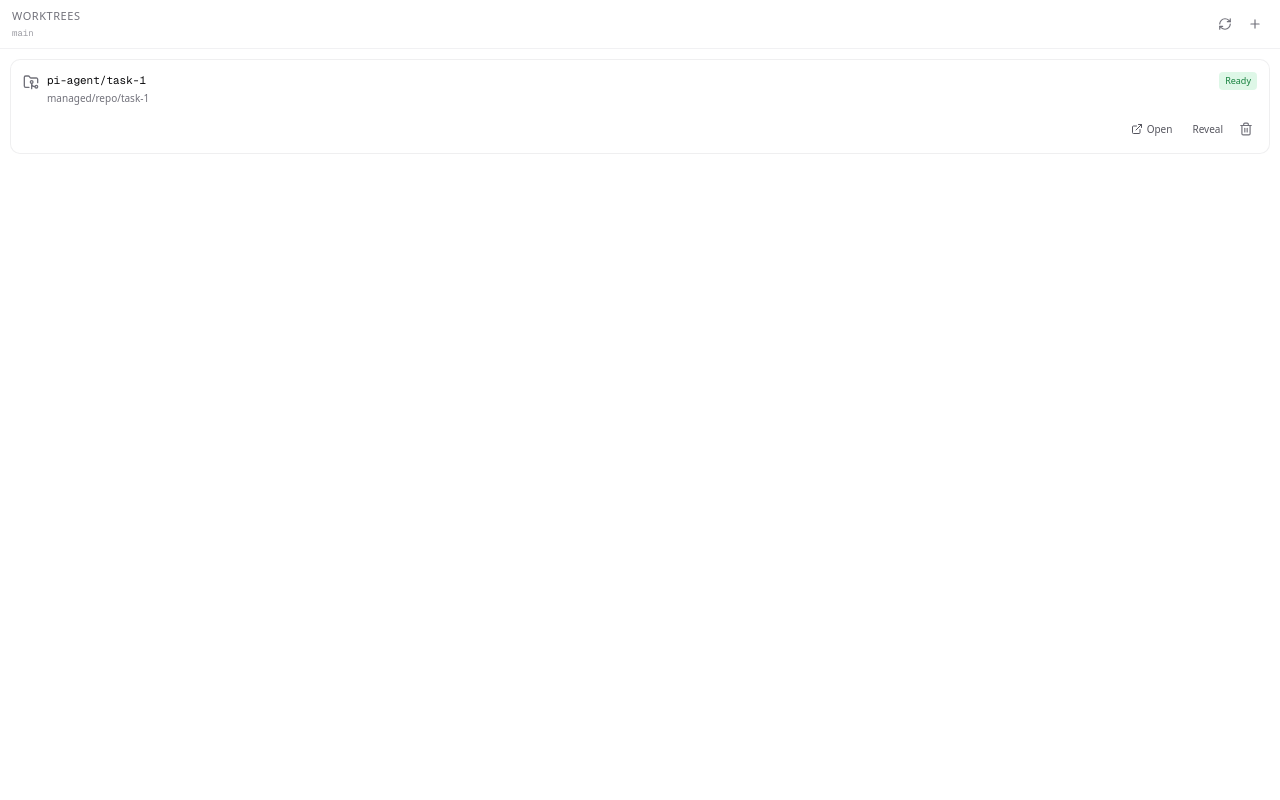
Test: WorktreesPanel › does not offer forced removal while the worktree is active
This screenshot has width=1280, height=800.
Expected: the text "pi-agent/task-1" is shown, [47, 73, 146, 87]
What coordinates should you click on to do the following:
click the button named "Safe remove"
I would click on:
 (1246, 129)
Its box is [1235, 118, 1257, 140].
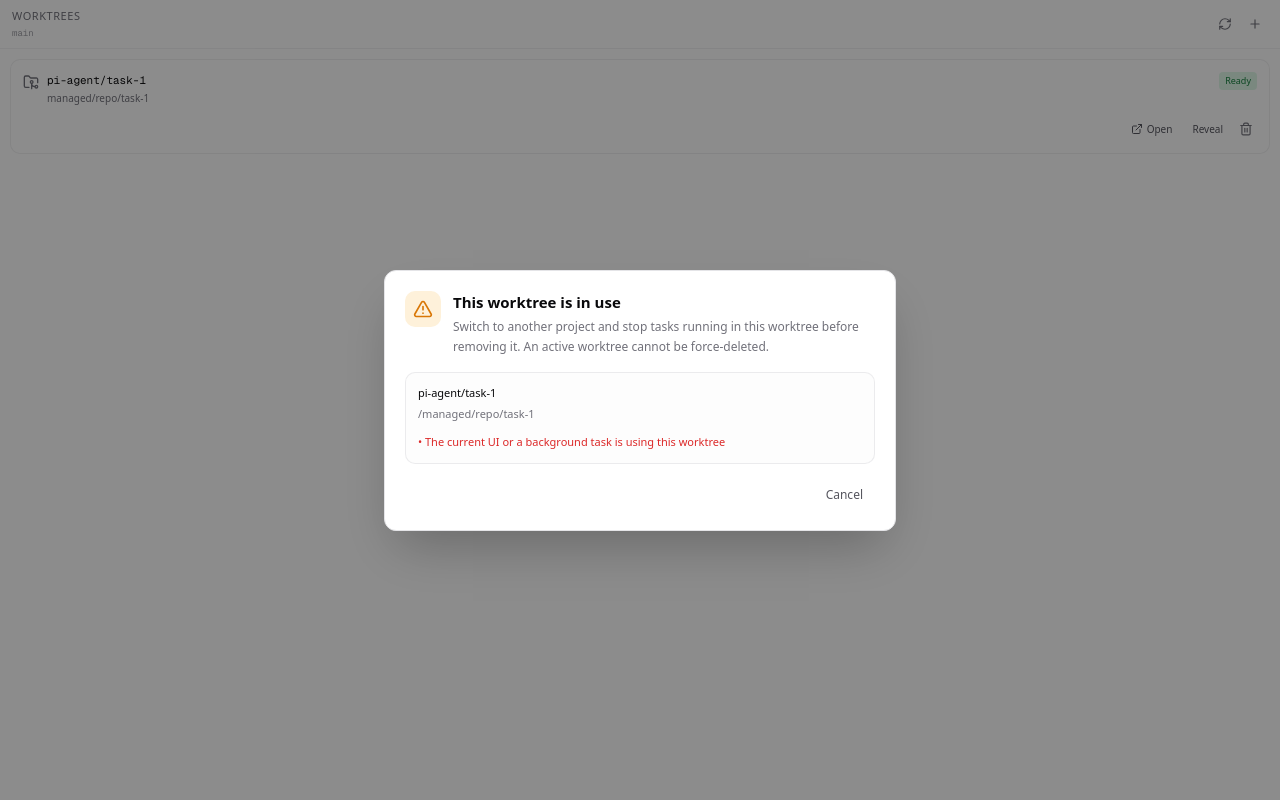
Now the heading "This worktree is in use" is shown, box [453, 292, 621, 312]
Now the list item "• The current UI or a background task is using this worktree" is shown, box [418, 434, 725, 449]
